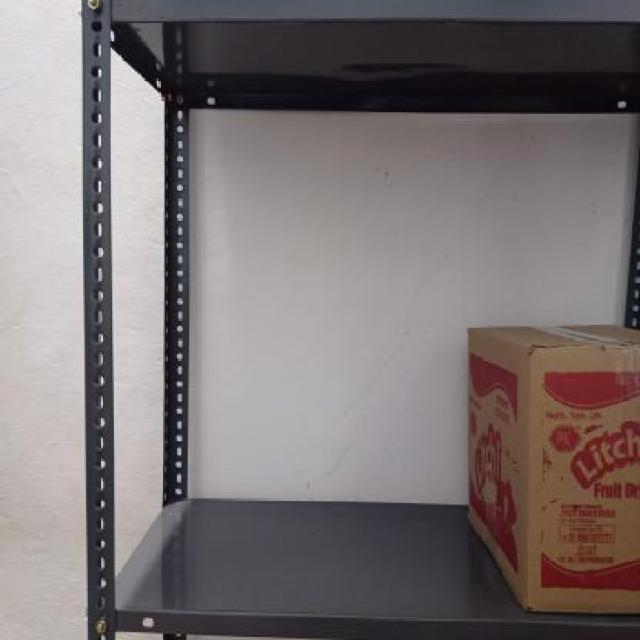box: (531, 347, 640, 615)
